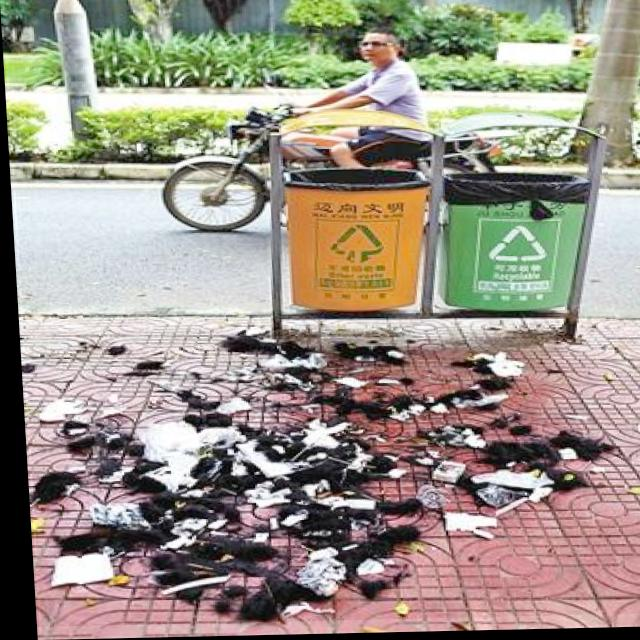garbage: (16, 322, 640, 627)
garbage_bin: (257, 105, 613, 345)
